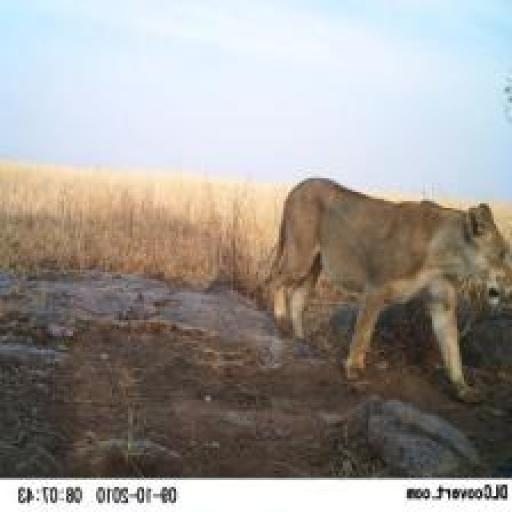lion: (244, 164, 508, 390)
